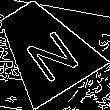N_NW: (11, 16, 77, 80)
